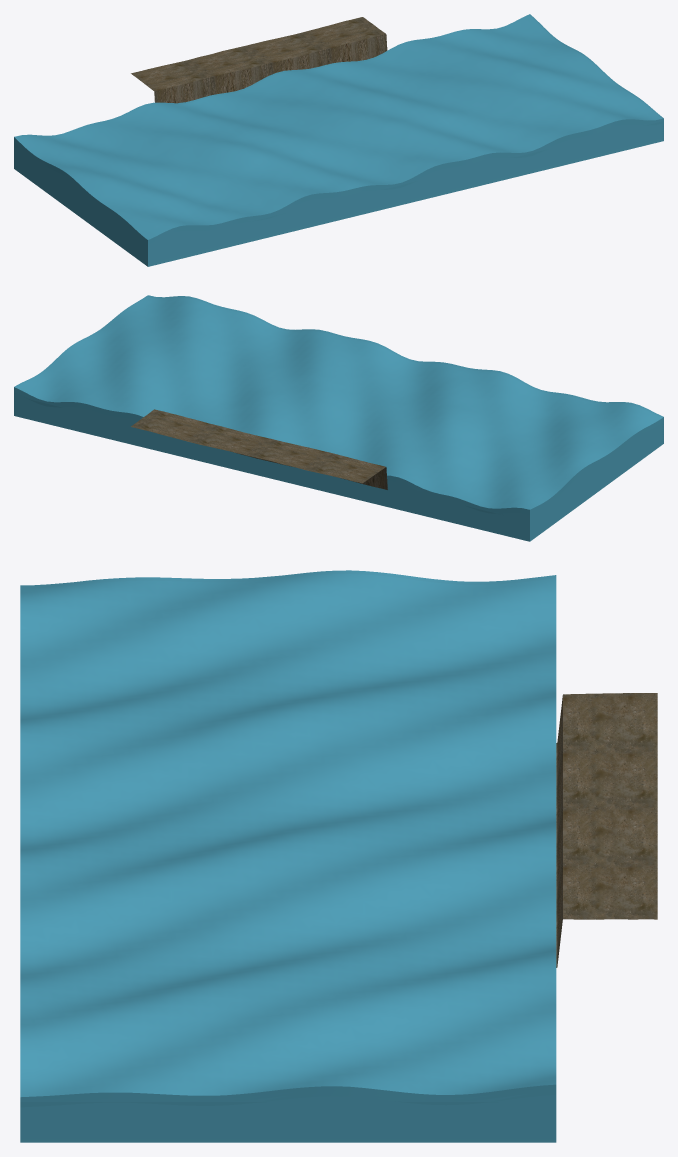
The model's file is tsunami.glb.
3 renders of one model, top to bottom at view 1: azimuth 30°, elevation 25°; view 2: azimuth 150°, elevation 25°; view 3: azimuth 270°, elevation 25°, orthographic. The views are drawn at different scales.
Parts seen in each view (by area): view 1: Tsunami_Wave, Tsunami_Coast; view 2: Tsunami_Wave, Tsunami_Coast; view 3: Tsunami_Wave, Tsunami_Coast.
Part boxes in pixels (box(x1,y1,x2,y2)): Tsunami_Wave: box(14, 14, 663, 266); Tsunami_Coast: box(131, 17, 387, 103); Tsunami_Wave: box(14, 295, 663, 541); Tsunami_Coast: box(131, 409, 387, 489); Tsunami_Wave: box(20, 570, 556, 1142); Tsunami_Coast: box(556, 693, 657, 967).
Size of the model in its own units: 10 by 0.7875 by 5.35.
2 materials, 1 textured.
